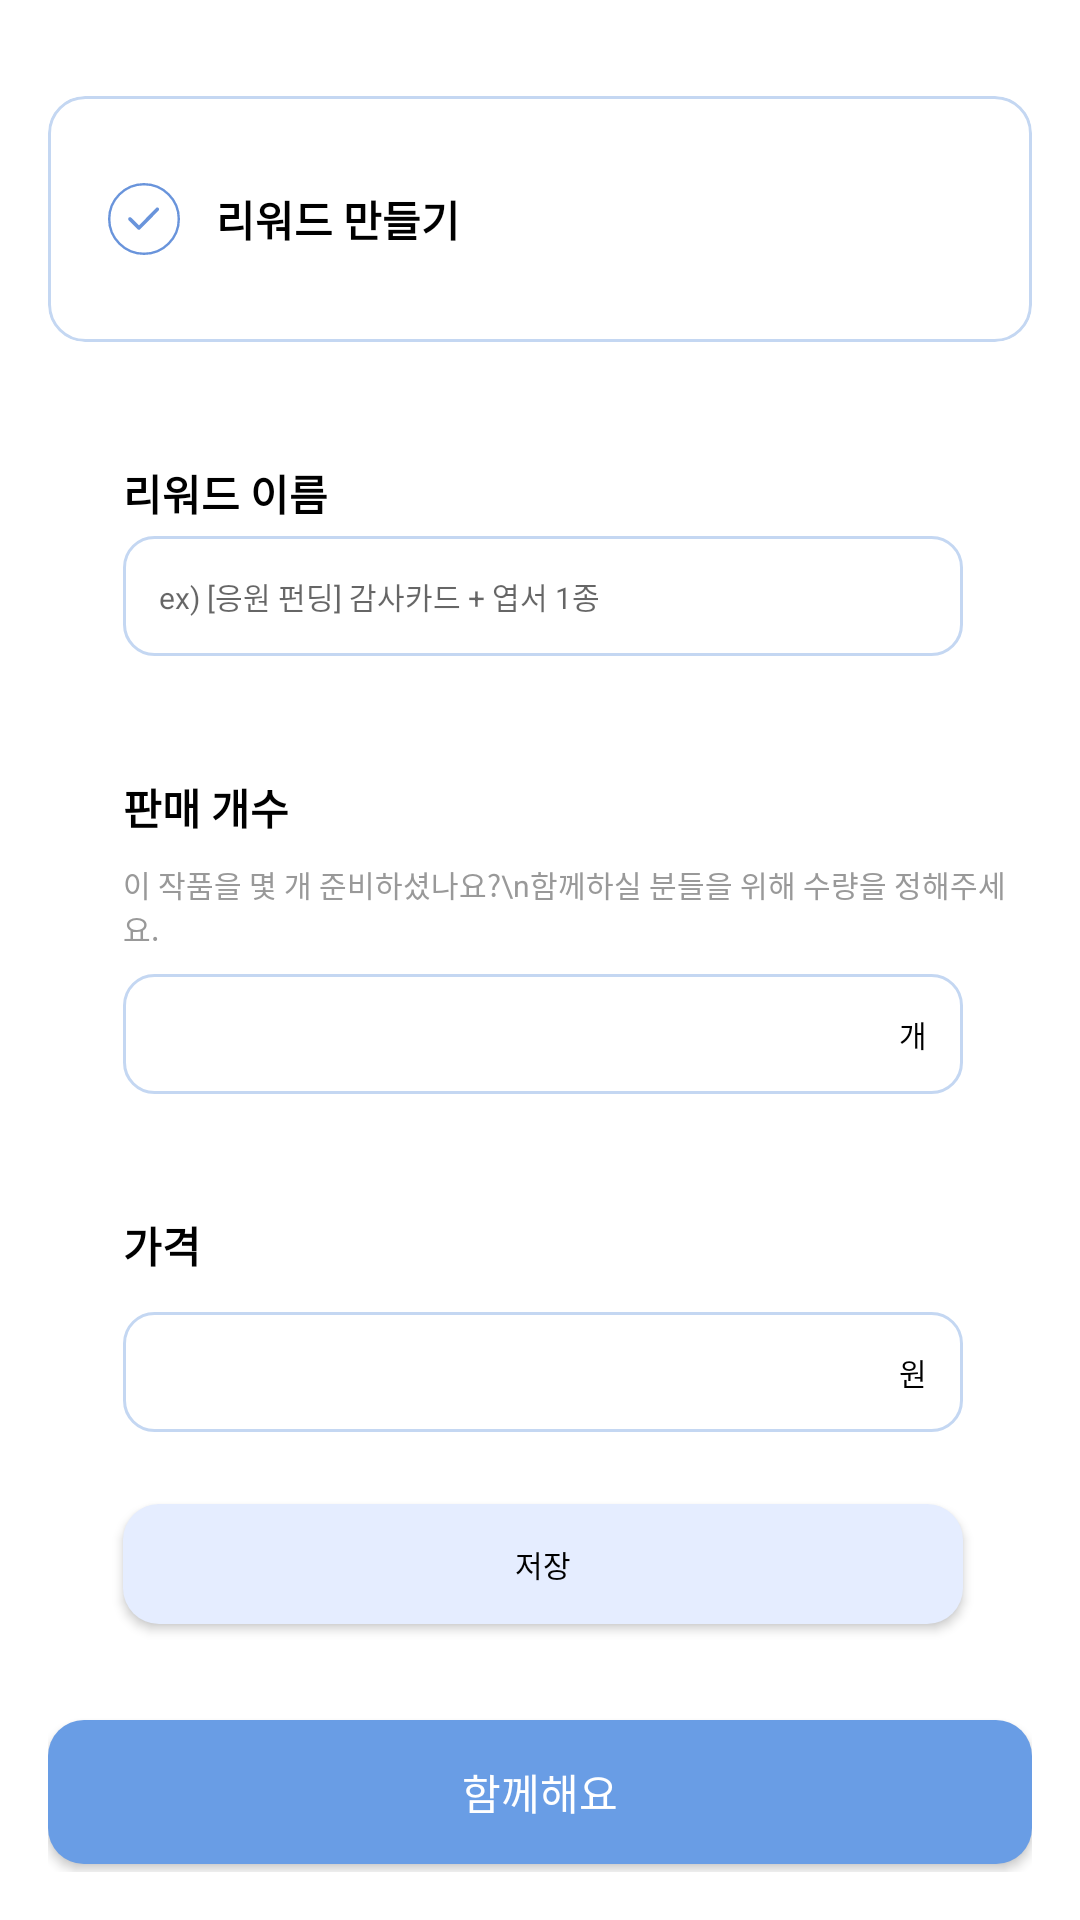

Named icons in this screenshot (1080x1920) and their bounding boxes, rect(x1, y1, x2, y2):
check: rect(108, 183, 180, 255)
